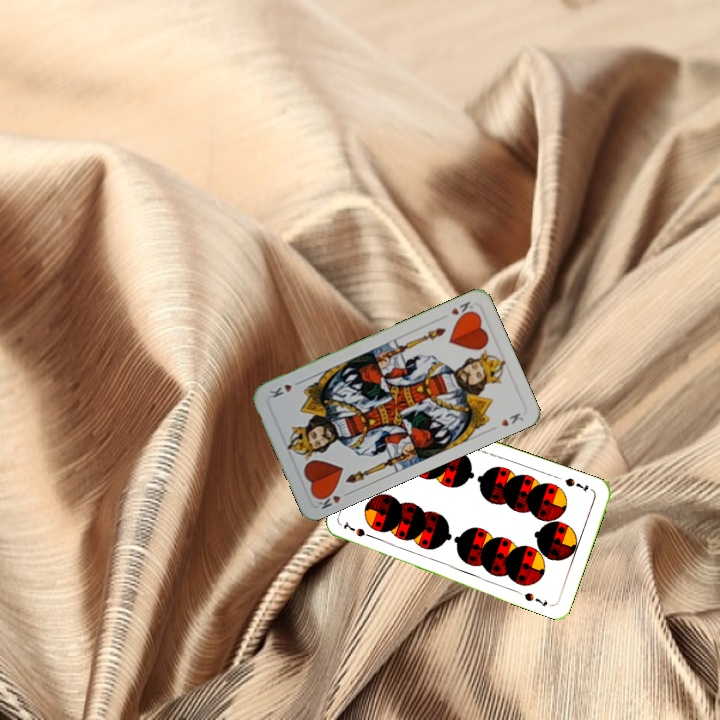HK: (313, 486, 353, 512), (447, 297, 477, 321)
S7: (339, 519, 379, 542), (561, 474, 591, 494)
